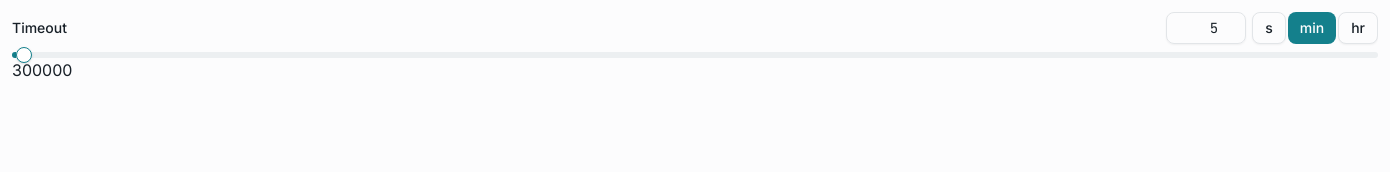
DurationSliderField › commits a value typed in minutes
Replace the text in the number field labelled "Timeout" with "10". click: (1206, 28)
box: [1166,12,1246,44]
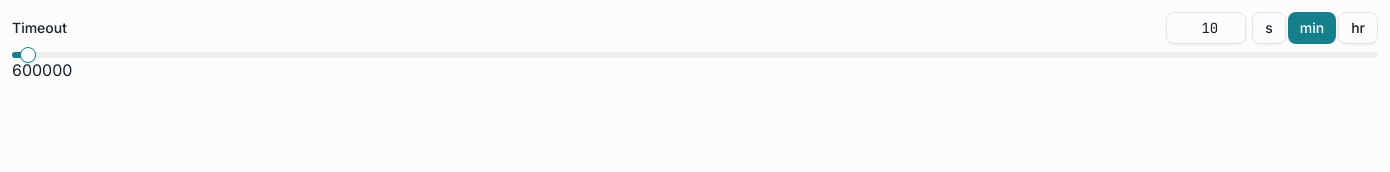
Now the text "600000" is shown, box [12,60,72,80]
